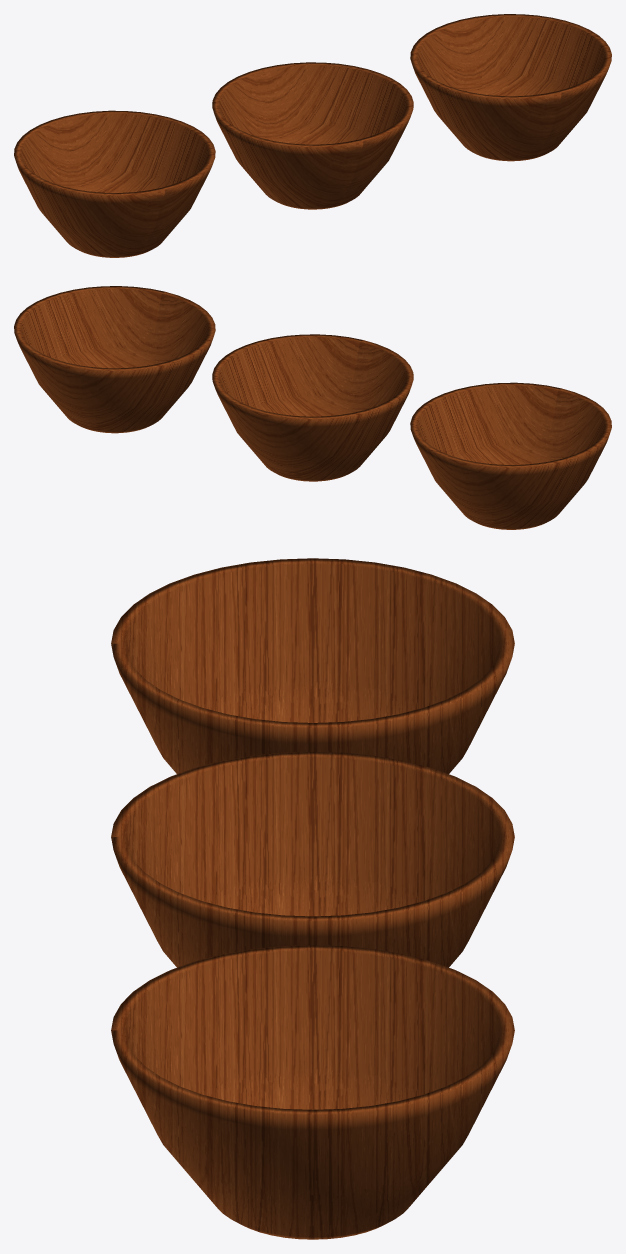
The model's file is ORI-09.glb.
The picture shows the model from 3 angles, top to bottom: view 1: azimuth 30°, elevation 25°; view 2: azimuth 150°, elevation 25°; view 3: azimuth 270°, elevation 25°; orthographic projection. The views are drawn at different scales.
Size of the model in its own units: 0.49 by 0.07 by 0.15.
Materials: 3 (3 with a texture image).
